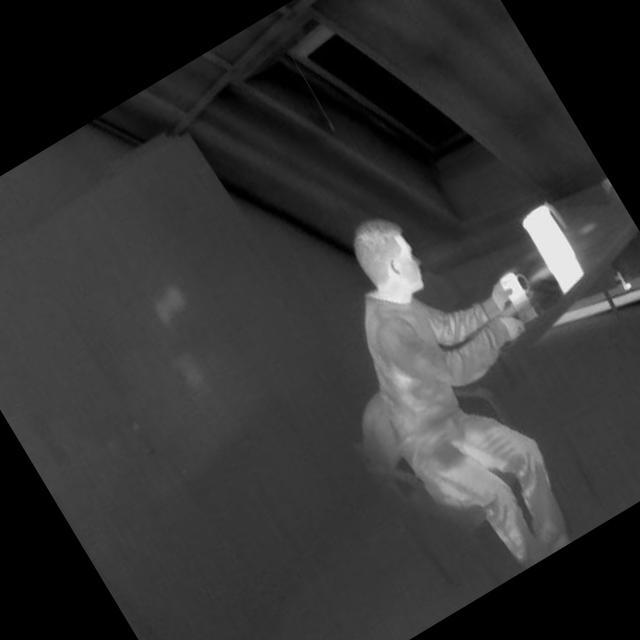person: (254, 171, 640, 614)
